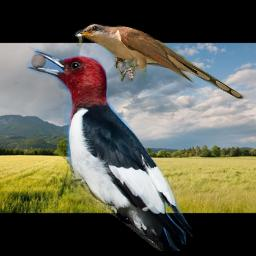Cuckoo: (72, 23, 244, 99)
Woodpecker: (26, 46, 195, 251)
